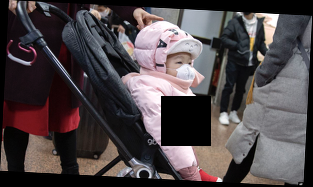with_mask: (166, 52, 196, 90)
